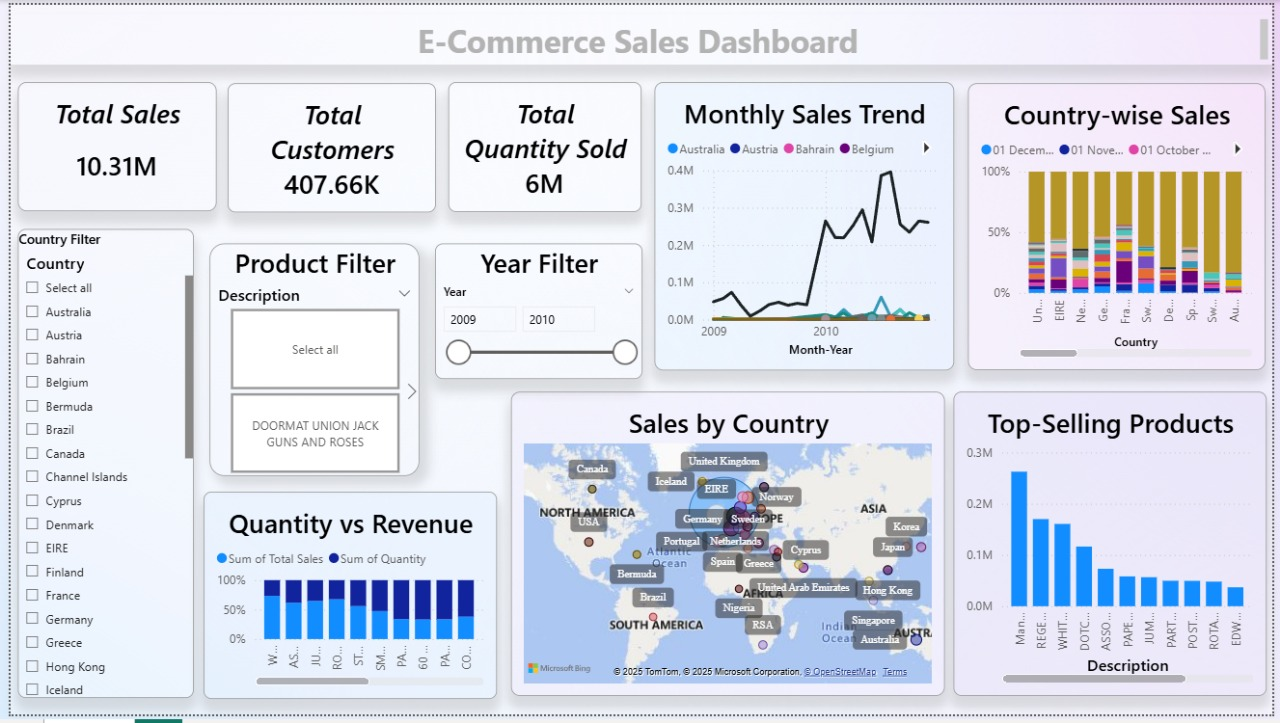

Layout of this report page (visuals, bound fields, positions):
{"tool":"powerbi","page":{"name":"Page 1","canvas":[1280,720],"ordinal":0},"visuals":[{"type":"lineChart","title":"Monthly Sales Trend","fields":{"Y":["Sum(task1-future_intern.Total Sales)"],"Series":["task1-future_intern.Country"],"Category":["task1-future_intern.Month-Year"]},"box":[652.5,78.8,303.8,292.5],"z":0},{"type":"clusteredColumnChart","title":"Top-Selling Products","fields":{"Category":["task1-future_intern.Description"],"Y":["Sum(task1-future_intern.Total Sales)"]},"box":[956.2,392.5,317.5,308.8],"z":1000},{"type":"hundredPercentStackedColumnChart","title":"Country-wise Sales","fields":{"Category":["task1-future_intern.Country"],"Y":["Sum(task1-future_intern.Total Sales)"],"Series":["task1-future_intern.Month-Year"]},"box":[971.2,80,301.2,291.2],"z":2000},{"type":"hundredPercentStackedColumnChart","title":"Quantity vs Revenue","fields":{"Category":["task1-future_intern.Description"],"Y":["Sum(task1-future_intern.Total Sales)","Sum(task1-future_intern.Quantity)"]},"box":[196.2,493.8,297.5,210],"z":3000},{"type":"map","title":"Sales by Country","fields":{"Category":["task1-future_intern.Country"],"Size":["Sum(task1-future_intern.Total Sales)"]},"box":[507.5,392.5,440,308.8],"z":4000},{"type":"card","title":"Total Sales","fields":{"Values":["Sum(task1-future_intern.Total Sales)"]},"box":[7.5,78.8,201.2,131.2],"z":5000},{"type":"card","title":"Total Quantity Sold","fields":{"Values":["Sum(task1-future_intern.Quantity)"]},"box":[443.9,78.3,195.7,132.1],"z":6000},{"type":"card","title":"Total Customers","fields":{"Values":["CountNonNull(task1-future_intern.Customer ID)"]},"box":[220,80,211.2,131.2],"z":7000},{"type":"slicer","title":"Country Filter","fields":{"Values":["task1-future_intern.Country"]},"box":[7.5,227.5,178.8,476.2],"z":8000},{"type":"slicer","title":"Product Filter","fields":{"Values":["task1-future_intern.Description"]},"box":[201.2,242.5,212.5,236.2],"z":9000},{"type":"slicer","title":"Year Filter","fields":{"Values":["task1-future_intern.Month-Year.Variation.Date Hierarchy.Year"]},"box":[430,242.5,210,137.5],"z":10000},{"type":"textbox","box":[0,10,1280,51.2],"z":11000}]}

Visuals, with their boxes in screenshot pixels (x1, y1, x2, y2), scaled from the page's 1280x720 canvas onto the 1280x723 screenshot:
"Monthly Sales Trend" lineChart: (left=652, top=79, right=956, bottom=373)
"Top-Selling Products" clusteredColumnChart: (left=956, top=394, right=1274, bottom=704)
"Country-wise Sales" hundredPercentStackedColumnChart: (left=971, top=80, right=1272, bottom=373)
"Quantity vs Revenue" hundredPercentStackedColumnChart: (left=196, top=496, right=494, bottom=707)
"Sales by Country" map: (left=508, top=394, right=948, bottom=704)
"Total Sales" card: (left=8, top=79, right=209, bottom=211)
"Total Quantity Sold" card: (left=444, top=79, right=640, bottom=211)
"Total Customers" card: (left=220, top=80, right=431, bottom=212)
"Country Filter" slicer: (left=8, top=228, right=186, bottom=707)
"Product Filter" slicer: (left=201, top=244, right=414, bottom=481)
"Year Filter" slicer: (left=430, top=244, right=640, bottom=382)
textbox: (left=0, top=10, right=1279, bottom=61)
